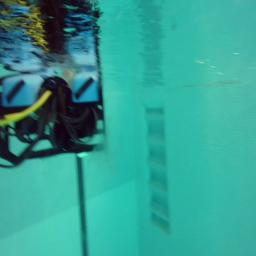back: (0, 72, 105, 168)
